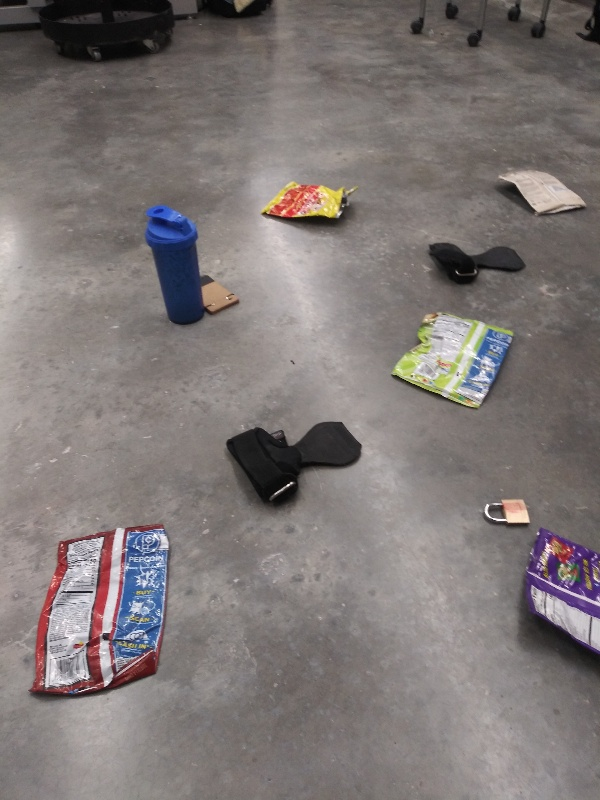bag: (22, 520, 179, 705), (388, 308, 521, 410), (517, 526, 600, 665), (490, 167, 593, 221), (257, 178, 362, 227)
